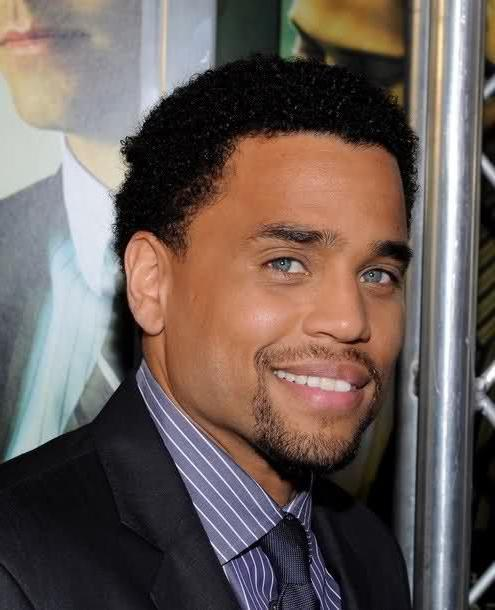Sober: (180, 148, 410, 442)
